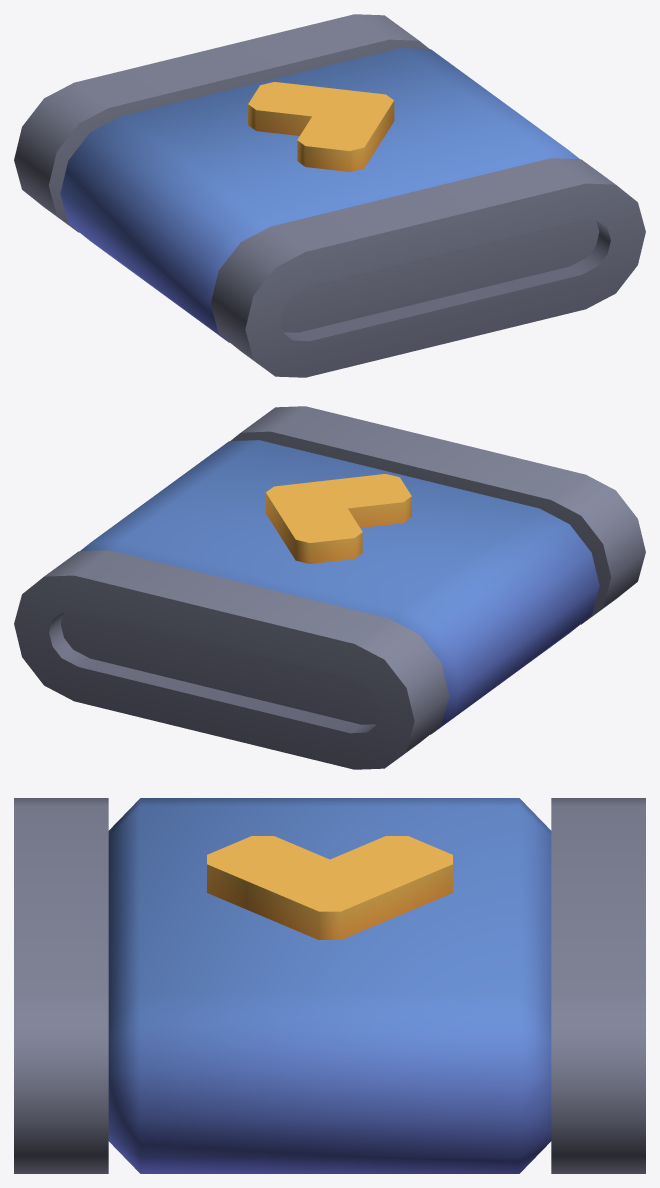
Rendered from conveyor-belt.glb.
3 renders of one model, top to bottom at view 1: azimuth 30°, elevation 25°; view 2: azimuth 150°, elevation 25°; view 3: azimuth 270°, elevation 25°, orthographic. The views are drawn at different scales.
Visible parts, largest first — view 1: conveyor-belt, arrow; view 2: conveyor-belt, arrow; view 3: conveyor-belt, arrow.
Part boxes in pixels (x1,y1,x2,y2): conveyor-belt: (14, 14, 645, 377); arrow: (248, 82, 394, 171); conveyor-belt: (14, 406, 645, 769); arrow: (265, 474, 411, 563); conveyor-belt: (14, 798, 645, 1173); arrow: (207, 836, 452, 939).
Bounding box in the file's own units: 1 × 0.35 × 1.
1 material, 1 textured.
